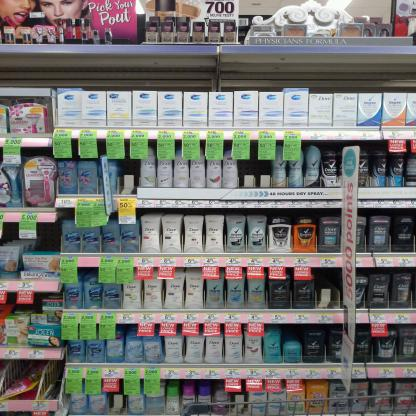Void: (240, 160, 271, 188), (119, 161, 130, 194), (45, 227, 60, 251)
